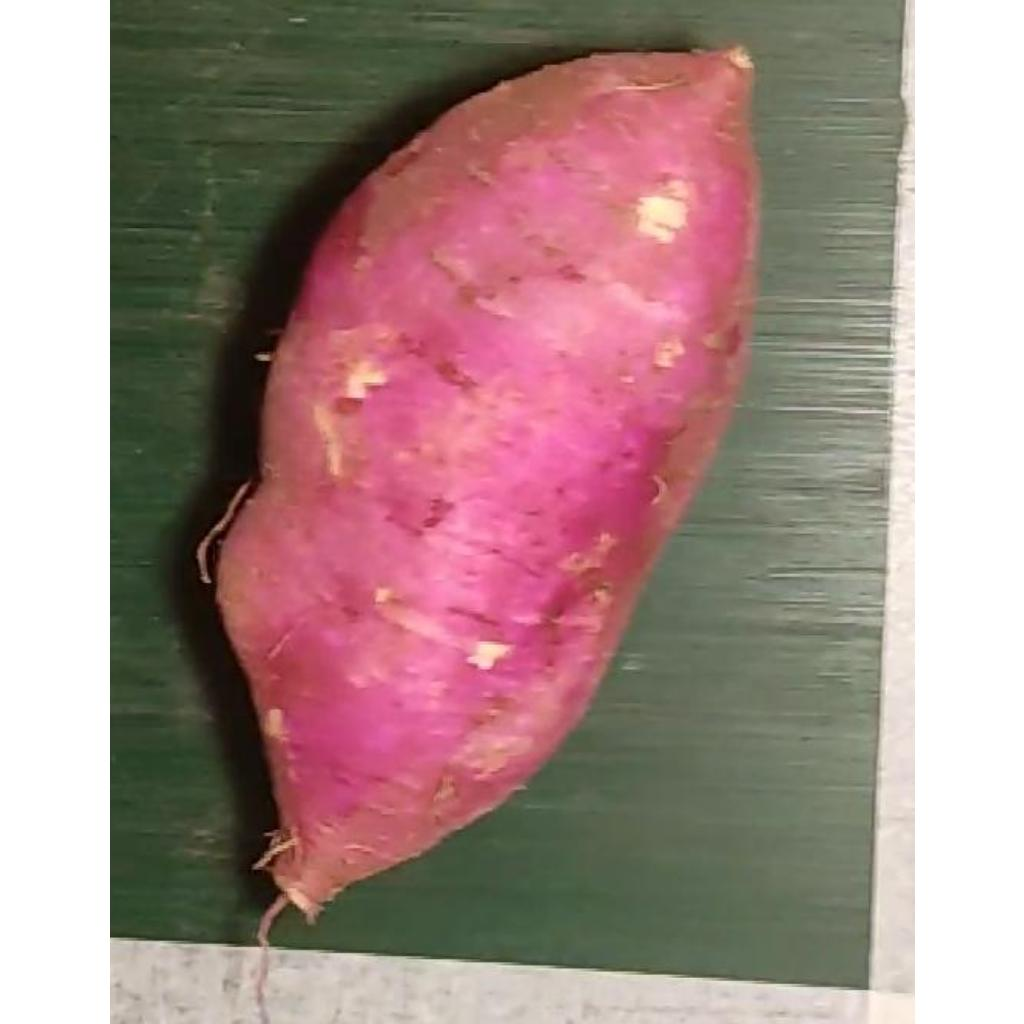Sweet Potato: (197, 48, 761, 924)
